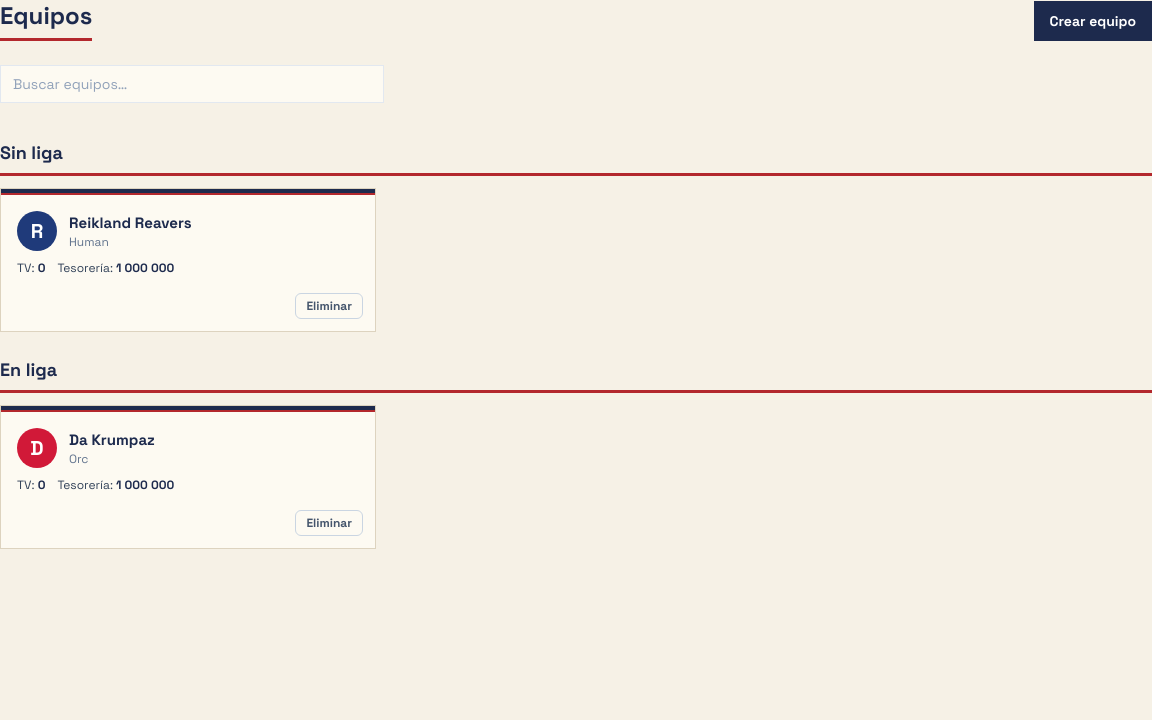
Test: TeamsListViewV2 — delete parity (task 2.5) › card delete opens the modal with the Spanish copy; confirming removes the team through the store channel
Check: the heading "Reikland Reavers" is shown, box 69,213 -> 192,232
Same accessible name convention as the legacy TeamCard control.
Click the button with aria-label "Eliminar Reikland Reavers" at (329, 306), box 295,293 -> 363,319
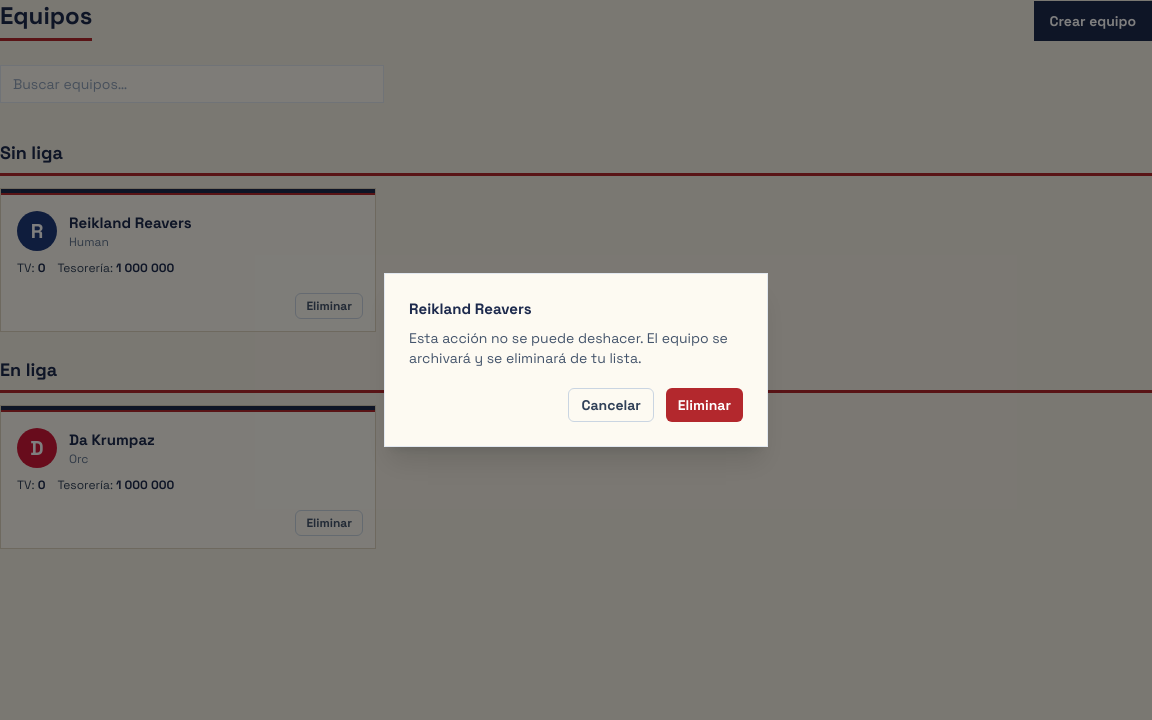
Check: the heading "Reikland Reavers" is shown, box 409,299 -> 532,318
Check: the dialog shows "Esta acción no se puede deshacer", box 409,329 -> 728,367
Click the button "Eliminar" at (704, 405), box 666,388 -> 743,422
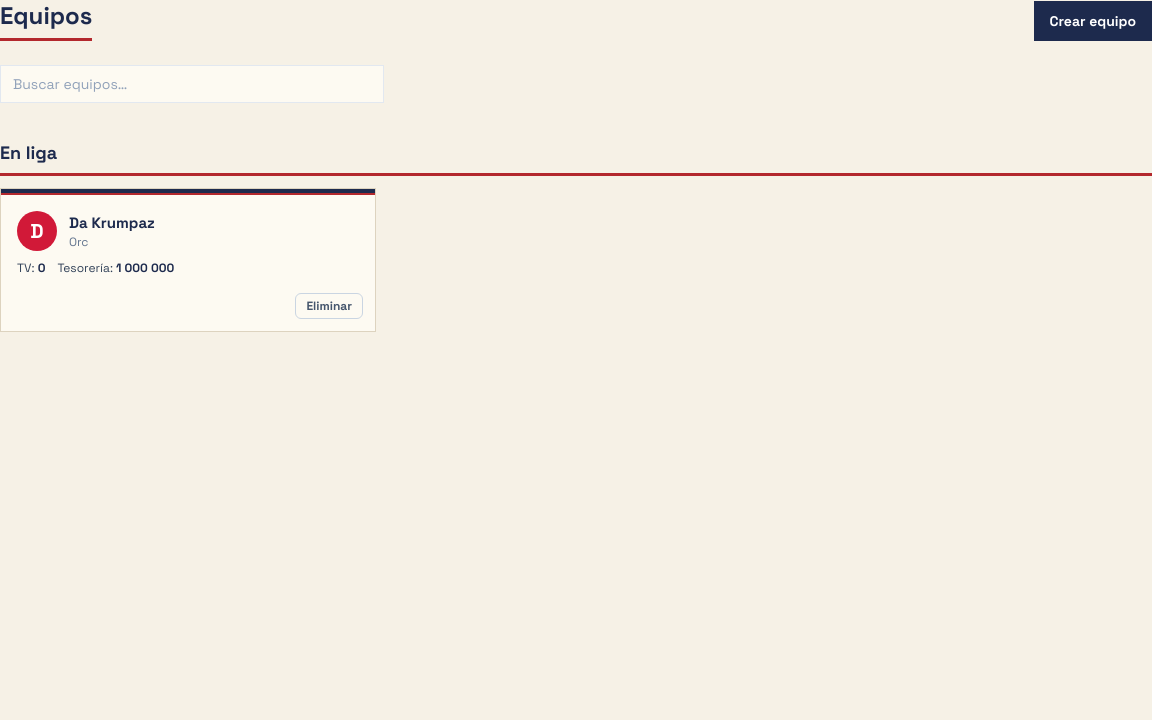
Check: the heading "Da Krumpaz" is shown, box 69,213 -> 155,232
Check: the link "Reikland Reavers" is gone
Check: the dialog is gone
